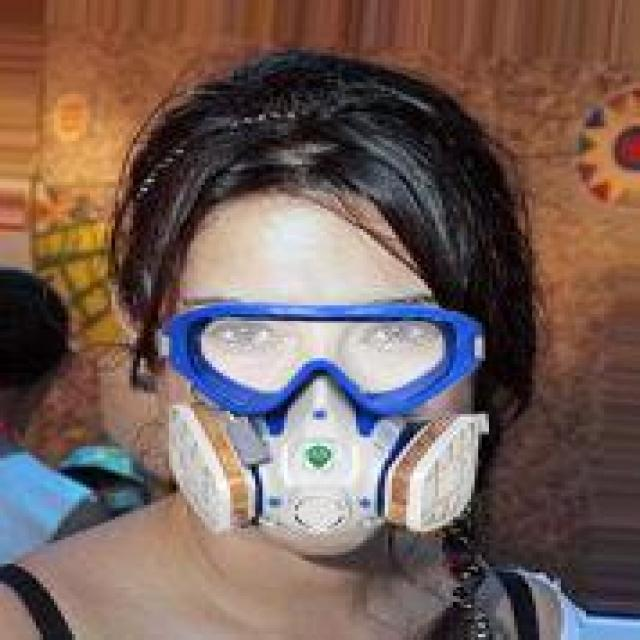mask: (104, 91, 543, 584)
